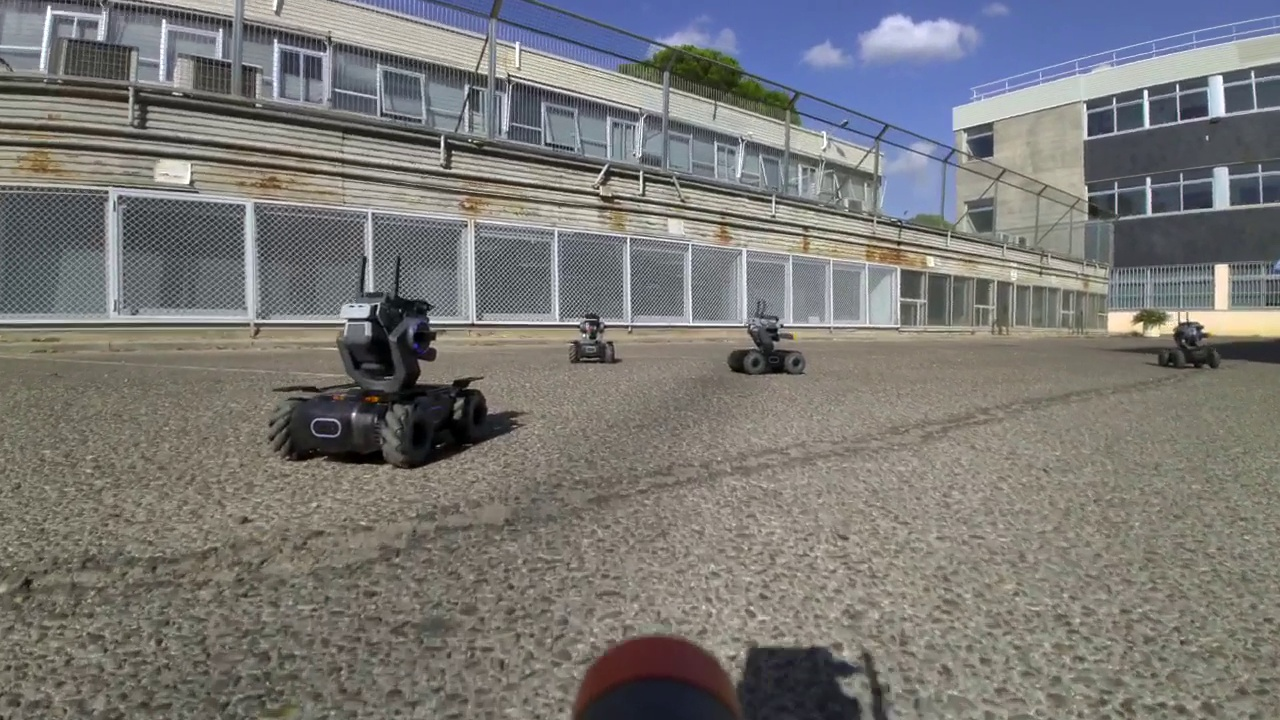robot: (267, 249, 487, 470), (722, 299, 808, 375), (1156, 308, 1220, 368), (568, 307, 611, 361)
